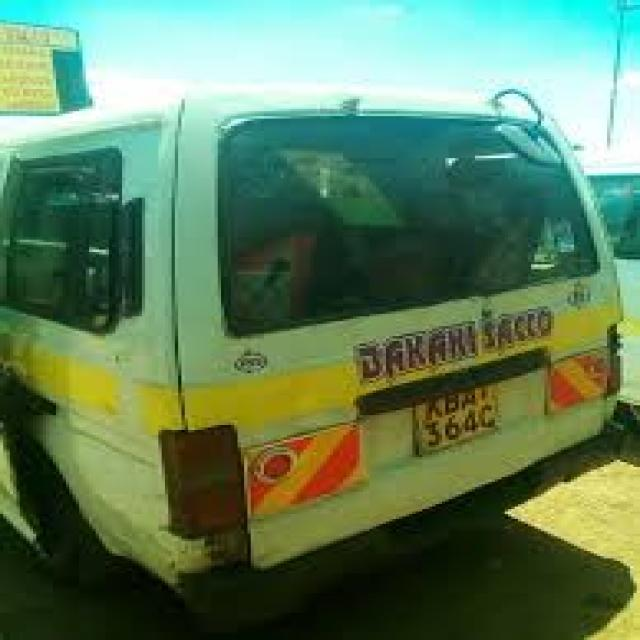matatu: (0, 61, 640, 624)
